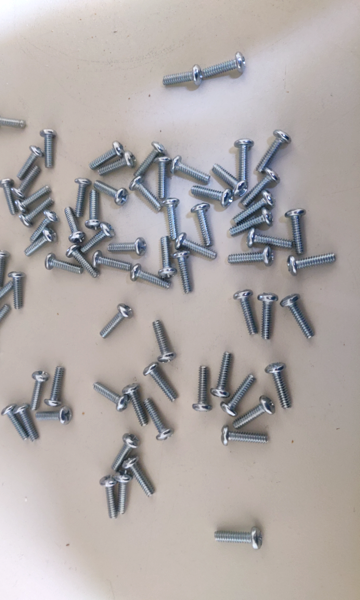shortscrew: (280, 293, 315, 340), (221, 374, 258, 418), (256, 130, 293, 174), (231, 396, 275, 430), (243, 168, 281, 207), (122, 455, 156, 498), (143, 363, 178, 403), (234, 190, 276, 223), (264, 363, 293, 409), (143, 398, 174, 441), (229, 208, 274, 237), (212, 163, 249, 198), (134, 141, 169, 178), (202, 52, 247, 80), (287, 253, 337, 277), (100, 304, 134, 339), (170, 155, 211, 184), (123, 384, 150, 428), (234, 290, 259, 336), (111, 434, 141, 472), (92, 383, 131, 412), (214, 527, 263, 550), (67, 245, 100, 279), (175, 233, 218, 259), (80, 222, 116, 253), (89, 141, 127, 170), (152, 320, 177, 364), (12, 405, 40, 443), (1, 404, 29, 442), (221, 426, 269, 448), (285, 208, 307, 256), (211, 352, 233, 399), (227, 245, 274, 267), (258, 292, 279, 341), (24, 228, 59, 257), (15, 185, 51, 213), (17, 145, 45, 181), (131, 264, 171, 289), (29, 211, 59, 244), (191, 184, 234, 207), (247, 228, 294, 249), (20, 197, 55, 225), (94, 180, 130, 207), (191, 204, 213, 248), (12, 166, 41, 199), (193, 365, 213, 412), (98, 151, 136, 175), (45, 366, 66, 408), (163, 65, 203, 87), (173, 251, 193, 295), (46, 253, 84, 276), (100, 475, 119, 520), (113, 471, 132, 515), (235, 139, 255, 180), (35, 405, 74, 426), (92, 251, 131, 272), (162, 198, 181, 241), (158, 236, 177, 279), (30, 371, 50, 411), (108, 237, 147, 257), (66, 206, 86, 244), (8, 271, 26, 311), (39, 130, 57, 168), (74, 178, 91, 218), (155, 157, 171, 199), (86, 189, 102, 231), (0, 177, 15, 216), (0, 111, 27, 131), (0, 281, 15, 312), (0, 251, 11, 288), (0, 304, 11, 338)
